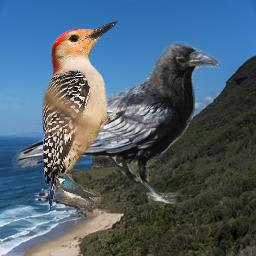Crow: (12, 41, 220, 205)
Swallow: (56, 173, 101, 205)
Woodpecker: (42, 19, 119, 211)
